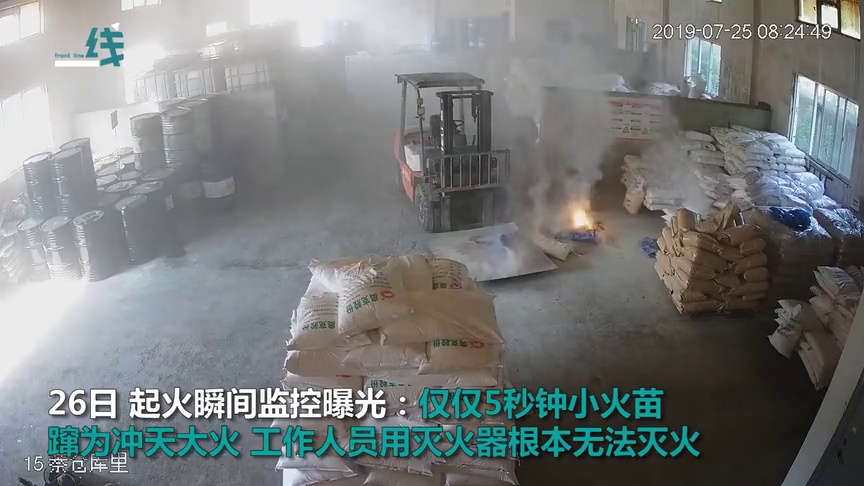fire: (564, 198, 593, 231)
smoke: (544, 53, 600, 191), (499, 92, 558, 219)
